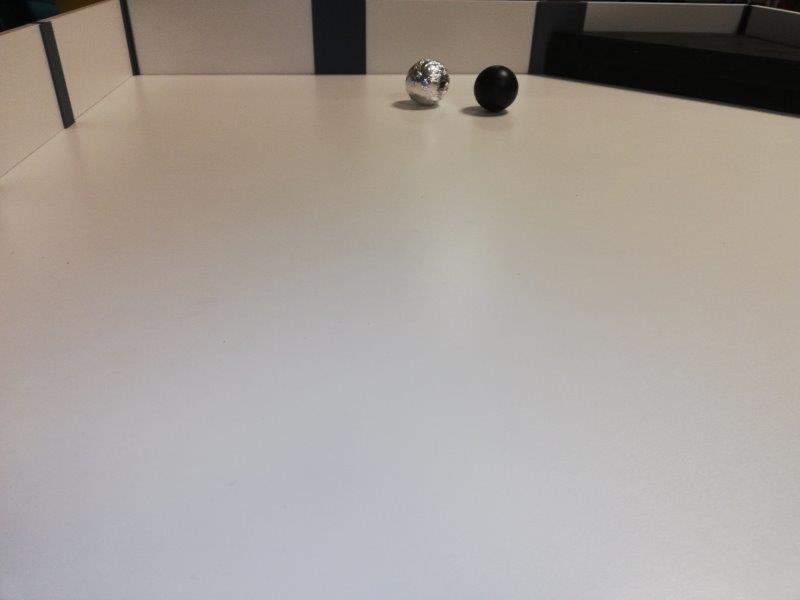bianca: (406, 56, 451, 106)
nera: (473, 64, 519, 113)
